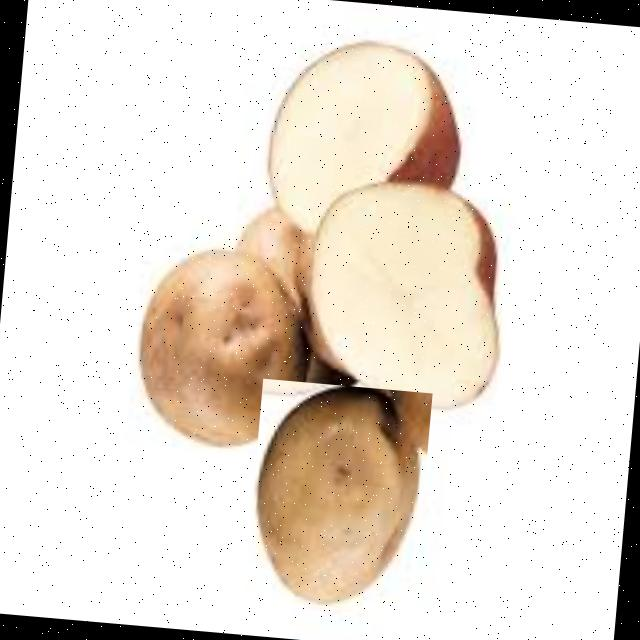Potato: (242, 378, 431, 614), (125, 243, 322, 456)
